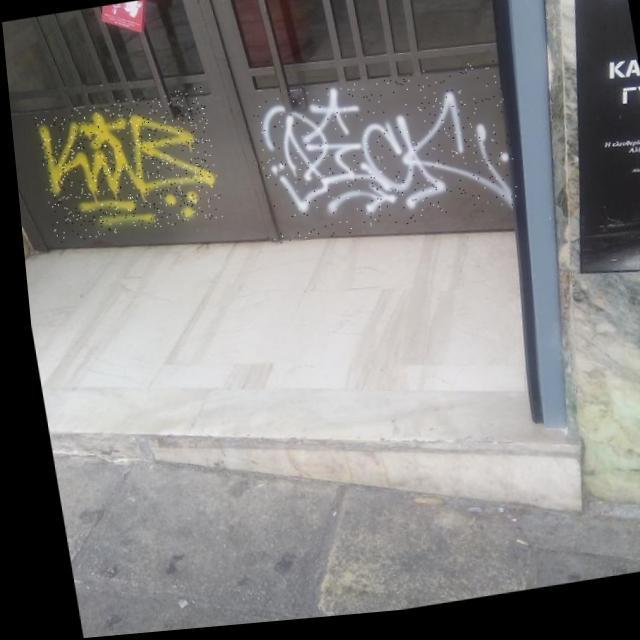-: (246, 68, 517, 250), (29, 88, 220, 244)
